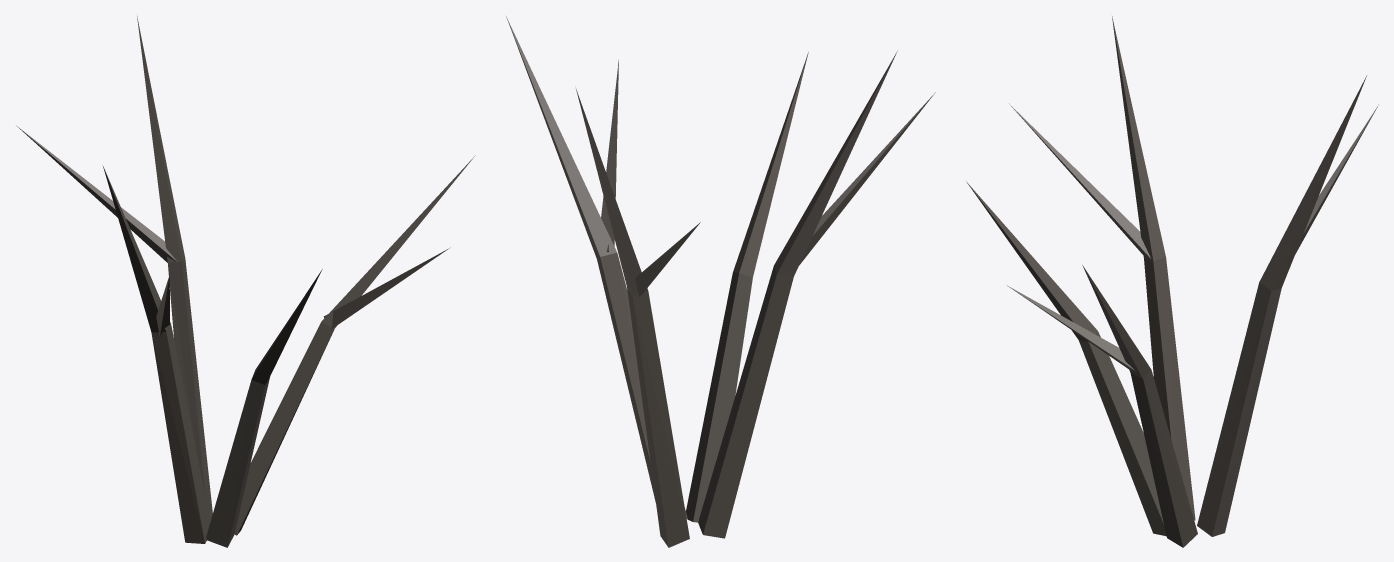
The model's file is SM_Twig_B.fbx.
The picture shows the model from 3 angles, left to right: view 1: azimuth 30°, elevation 25°; view 2: azimuth 150°, elevation 25°; view 3: azimuth 270°, elevation 25°; orthographic projection. The views are drawn at different scales.
Visible parts, largest first — view 1: SM_Twig_B; view 2: SM_Twig_B; view 3: SM_Twig_B.
Boxes of the visible parts, box(x1,y1,x2,y2) form: SM_Twig_B: box(16, 16, 475, 547); SM_Twig_B: box(506, 16, 935, 547); SM_Twig_B: box(966, 16, 1378, 547).
Size of the model in its own units: 0.8181 by 0.9877 by 0.7942.
